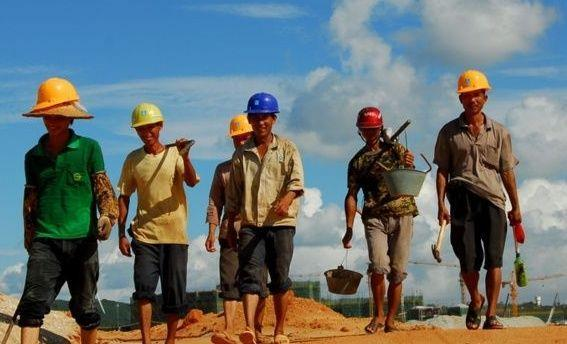safetyhat: (424, 52, 524, 330), (21, 68, 108, 339), (327, 93, 422, 330), (120, 96, 196, 341), (232, 92, 302, 338)
